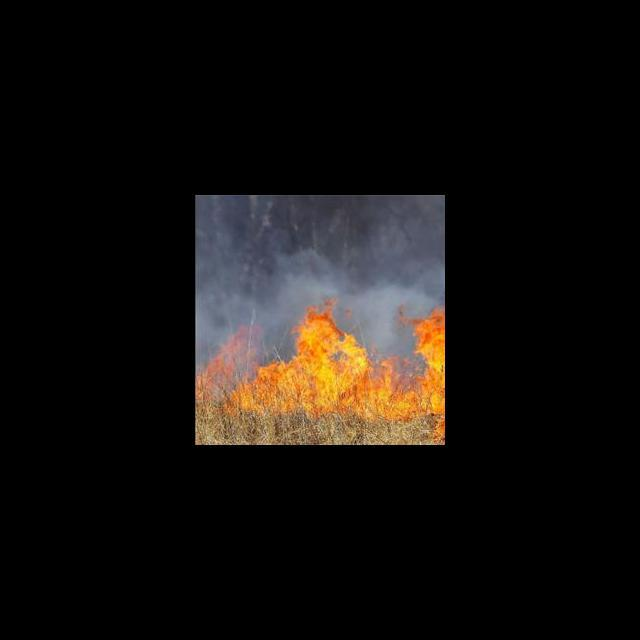Fire: (195, 297, 444, 435)
